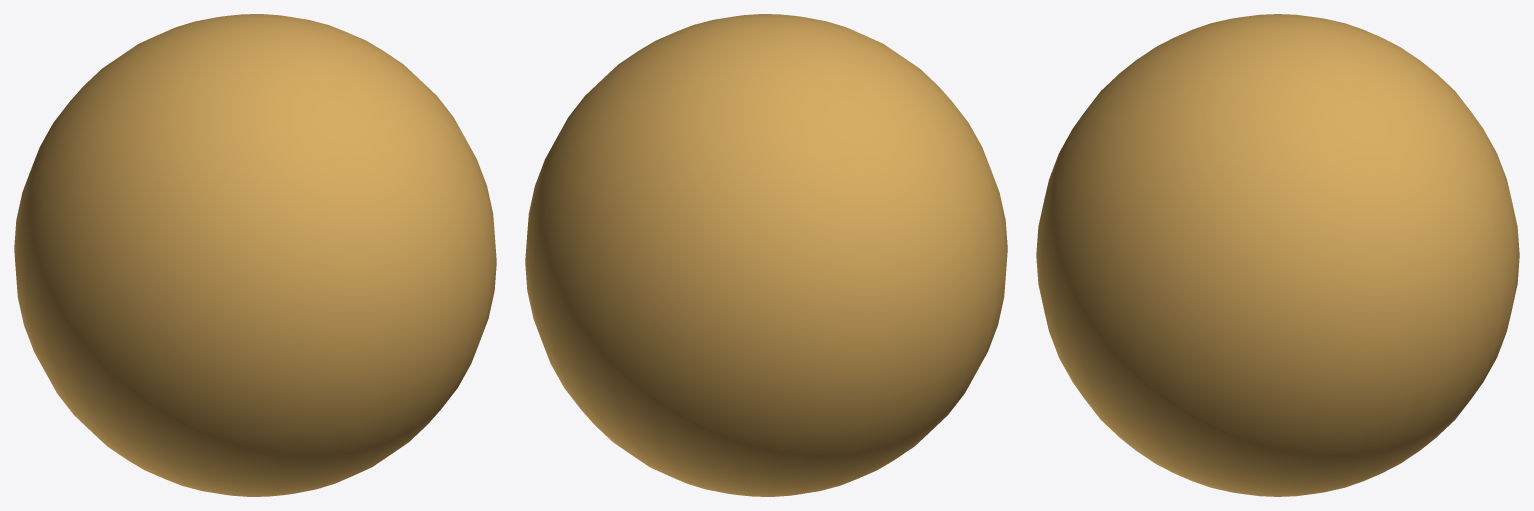
File: bob_brass.glb
The picture shows the model from 3 angles, left to right: view 1: azimuth 30°, elevation 25°; view 2: azimuth 150°, elevation 25°; view 3: azimuth 270°, elevation 25°; orthographic projection.
Visible parts, largest first — view 1: bob_brass; view 2: bob_brass; view 3: bob_brass.
Boxes of the visible parts, left/top/right/bottom form: bob_brass: left=14, top=14, right=496, bottom=496; bob_brass: left=525, top=14, right=1007, bottom=496; bob_brass: left=1036, top=14, right=1519, bottom=496.
Bounding box in the file's own units: 1 × 1 × 1.
